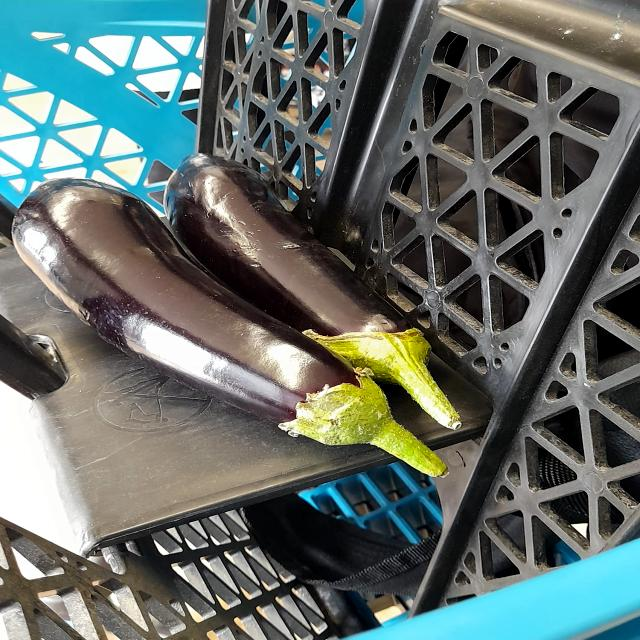eggplant: (7, 173, 457, 487), (161, 144, 465, 435)
